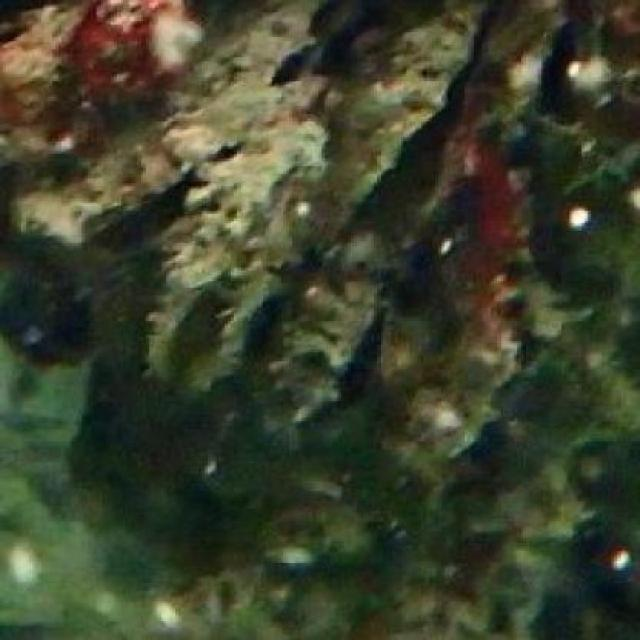Oyster-Closed: (395, 285, 539, 478)
Oyster-Indeterminate: (13, 0, 344, 244)
Oyster-Open: (149, 116, 319, 393), (319, 0, 490, 265), (278, 256, 405, 440), (519, 0, 580, 149)
